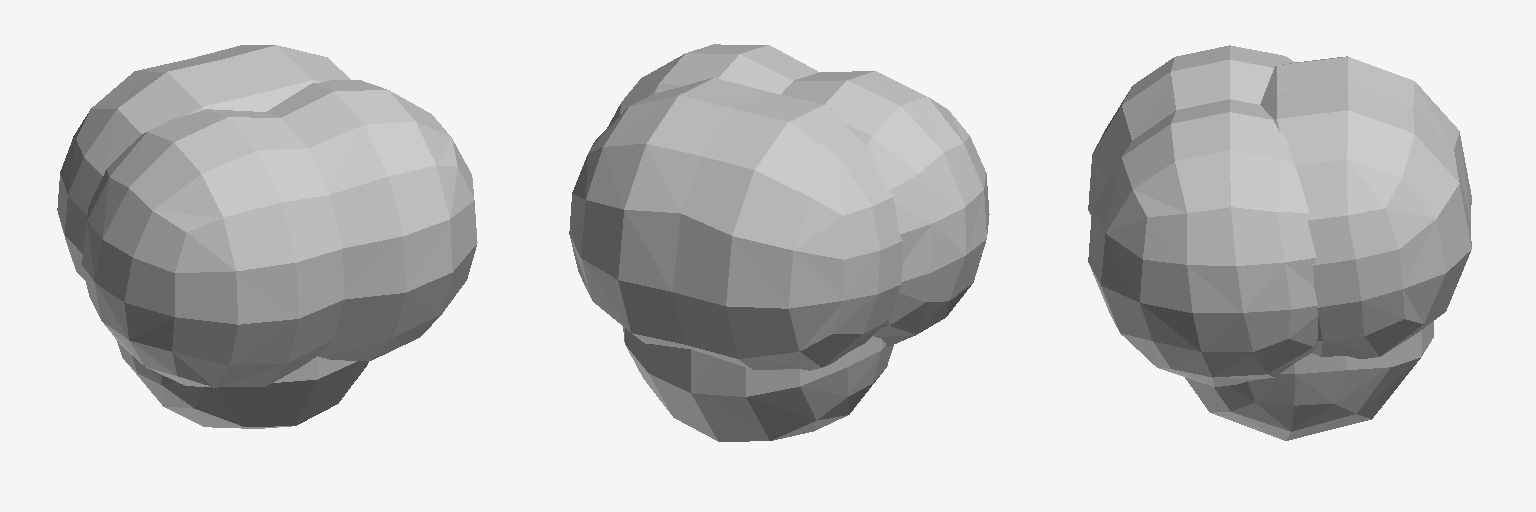
The model's file is SmokeMesh2PolySphere.obj.
3 renders of one model, left to right at view 1: azimuth 30°, elevation 25°; view 2: azimuth 150°, elevation 25°; view 3: azimuth 270°, elevation 25°, orthographic.
Parts seen in each view (by area): view 1: Group43239; view 2: Group43239; view 3: Group43239.
Part boxes in pixels (x1,y1,x2,y2): Group43239: (57, 45, 477, 428); Group43239: (569, 44, 989, 441); Group43239: (1088, 45, 1471, 440).
Size of the model in its own units: 2.87 by 2.63 by 2.65.